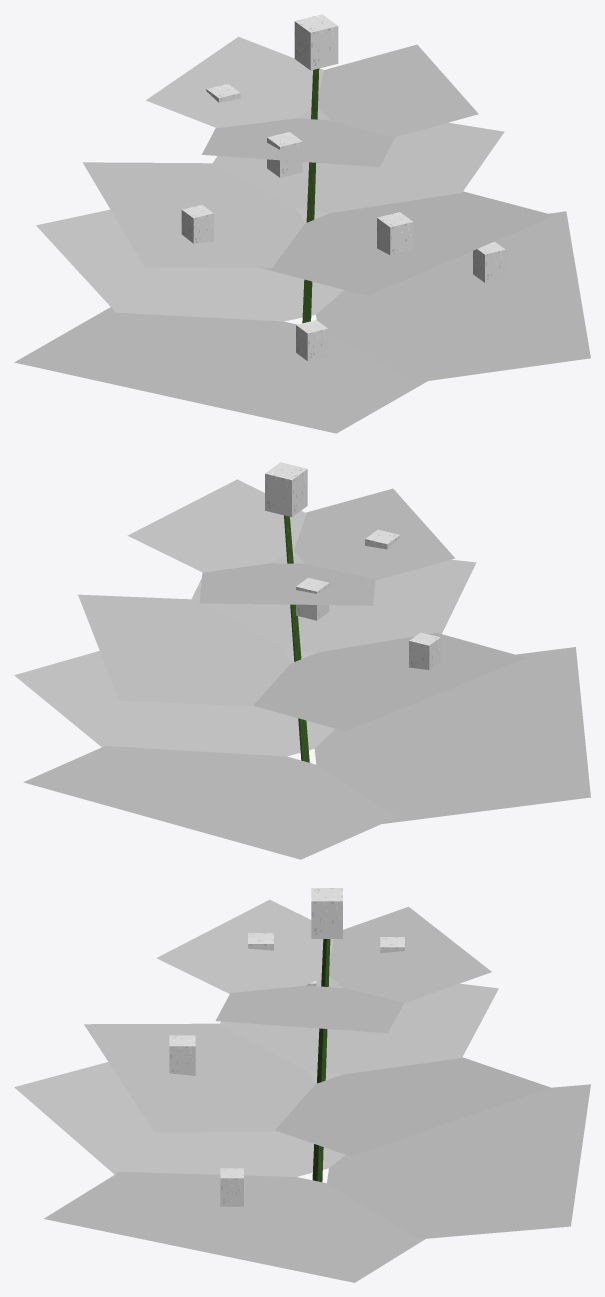
File: plant_2_1_2_lod.obj
The picture shows the model from 3 angles, top to bottom: view 1: azimuth 30°, elevation 25°; view 2: azimuth 150°, elevation 25°; view 3: azimuth 270°, elevation 25°; orthographic projection. The views are drawn at different scales.
Visible parts, largest first — view 1: model; view 2: model; view 3: model.
Part boxes in pixels (x1=…): model: x1=14, y1=14, x2=590, y2=433; model: x1=14, y1=462, x2=590, y2=859; model: x1=14, y1=888, x2=590, y2=1282.
Size of the model in its own units: 1.39 by 0.8036 by 1.23.
